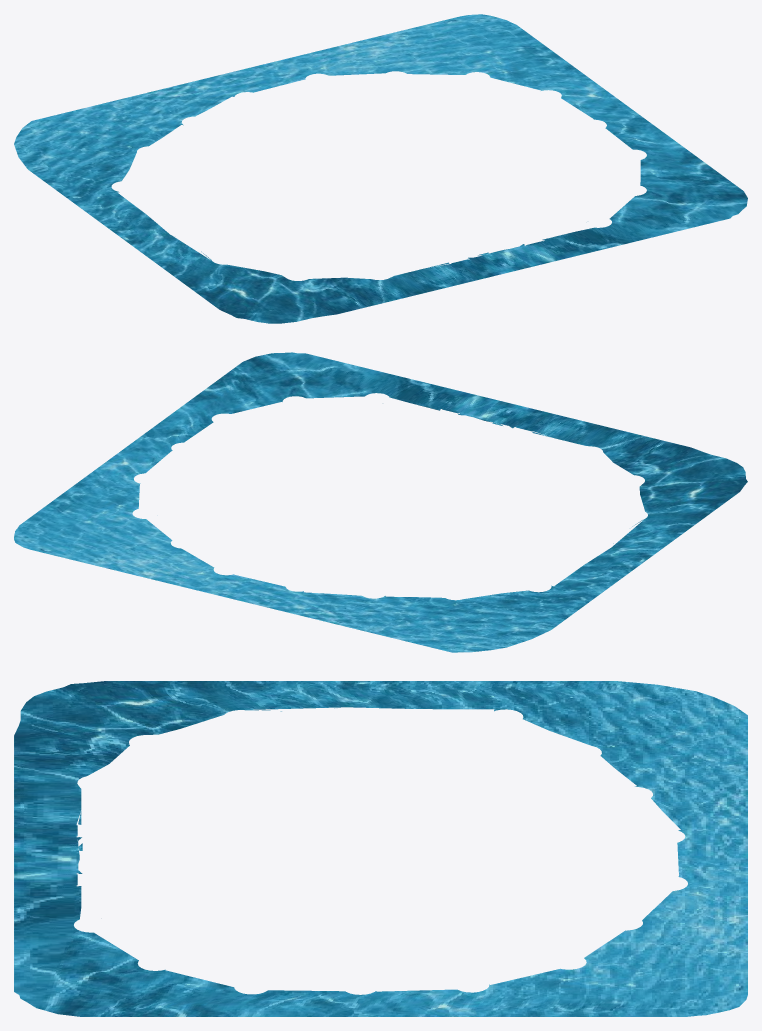
File: agua.obj
3 views of the same model, one above another, from view 1: azimuth 30°, elevation 25°; view 2: azimuth 150°, elevation 25°; view 3: azimuth 270°, elevation 25° (orthographic). The views are drawn at different scales.
Parts seen in each view (by area): view 1: Plane; view 2: Plane; view 3: Plane.
Boxes of the visible parts, <box> form: Plane: <box>14,14,747,323</box>; Plane: <box>14,352,747,652</box>; Plane: <box>14,681,747,1016</box>.
Size of the model in its own units: 335 by 0.253 by 309.
